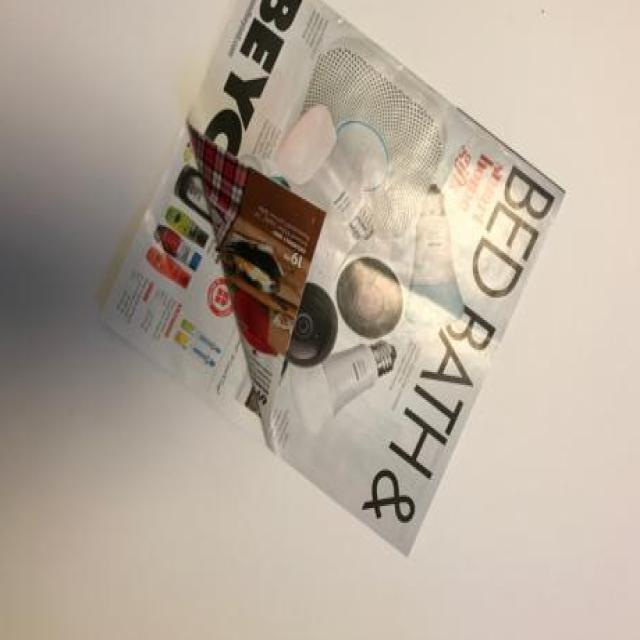kertas: (95, 0, 571, 559)
